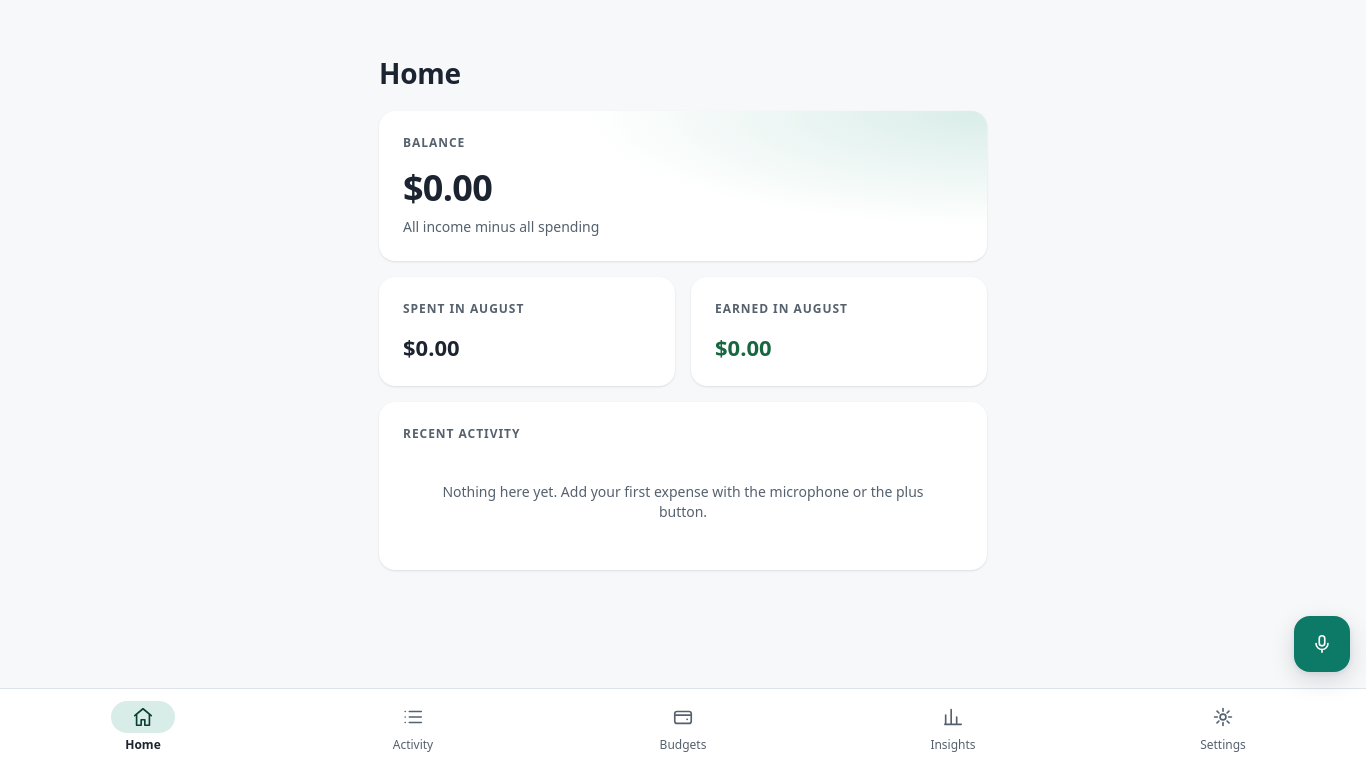
Scenario: App › navigates between pages via the bottom nav
This screenshot has width=1366, height=768.
Expected: the heading "Home" is shown, [379, 54, 461, 92]
Click the button "Budgets": [683, 727] box [627, 701, 739, 753]
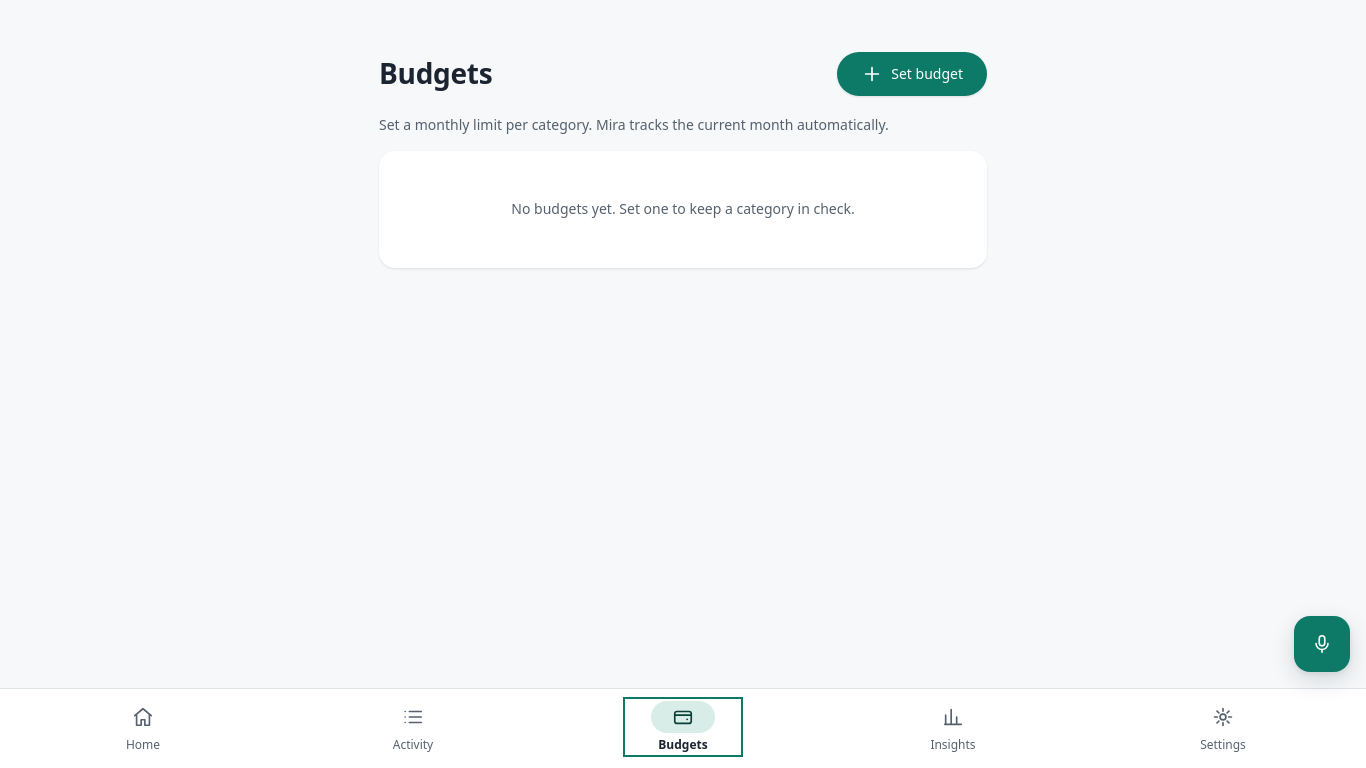
Expected: the heading "Budgets" is shown, [379, 48, 492, 99]
